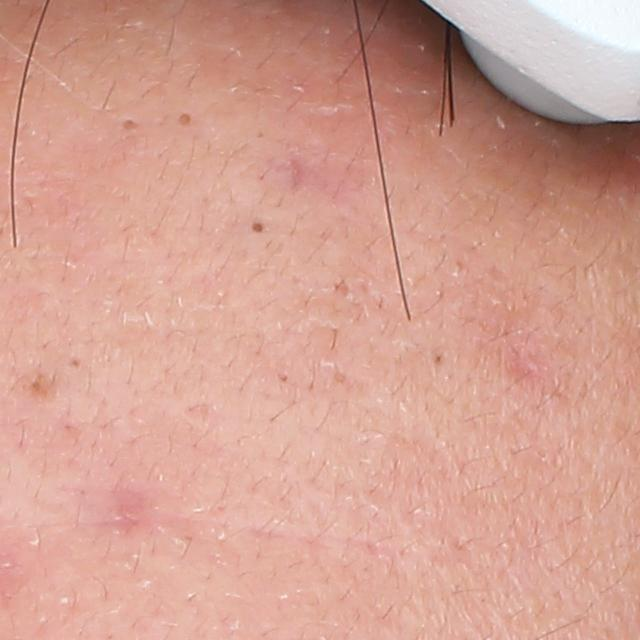comedo: (172, 109, 195, 129), (119, 116, 142, 134), (249, 219, 267, 236)
